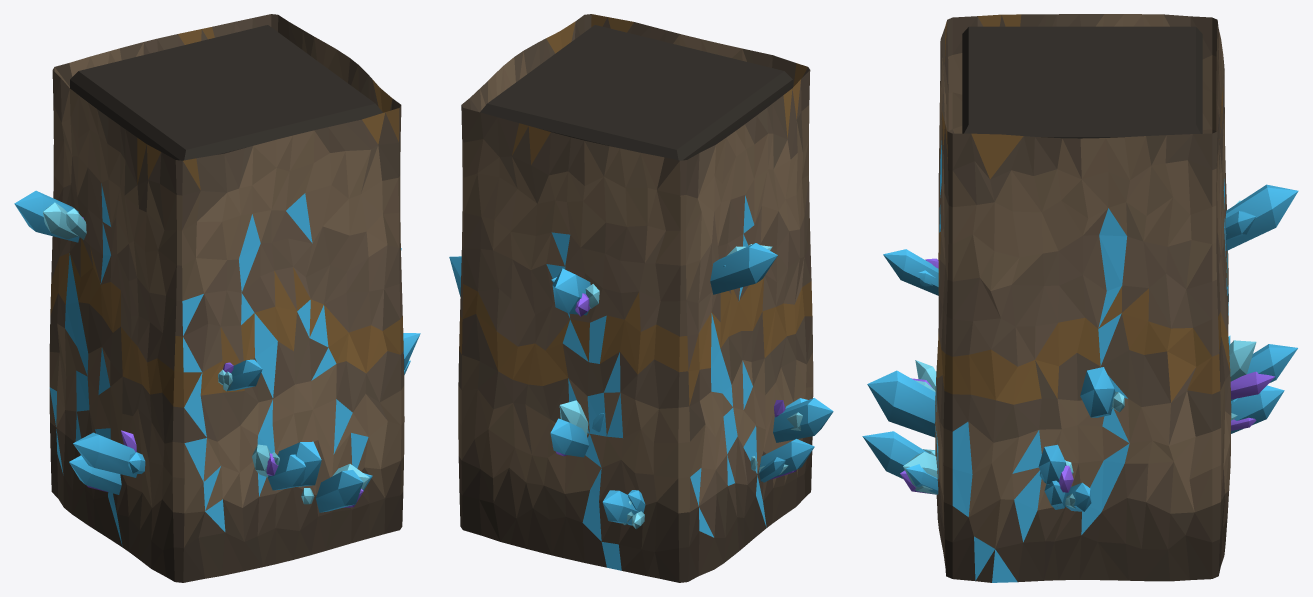
The model's file is wall_c.fbx.
3 renders of one model, left to right at view 1: azimuth 30°, elevation 25°; view 2: azimuth 150°, elevation 25°; view 3: azimuth 270°, elevation 25°, orthographic. The views are drawn at different scales.
Parts seen in each view (by area): view 1: wall_c; view 2: wall_c; view 3: wall_c.
Part boxes in pixels (x1=…): wall_c: x1=14, y1=14, x2=420, y2=582; wall_c: x1=449, y1=14, x2=833, y2=582; wall_c: x1=862, y1=14, x2=1298, y2=582.
Size of the model in its own units: 4 by 4.5 by 4.
